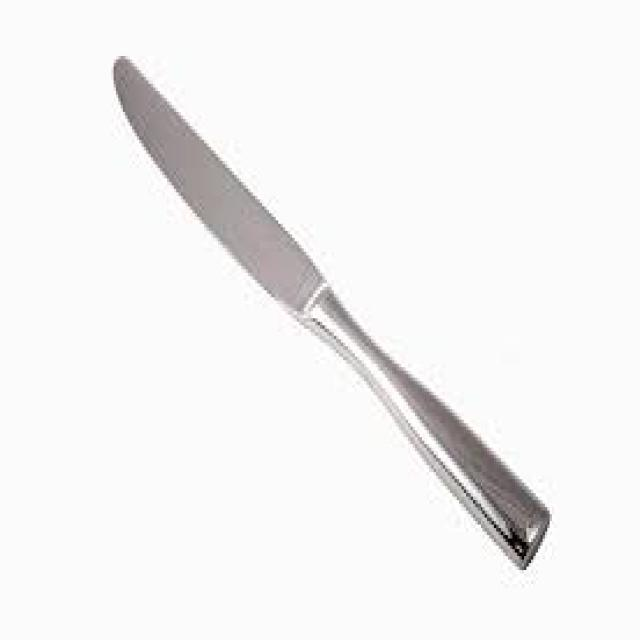Knife: (111, 53, 550, 570)
